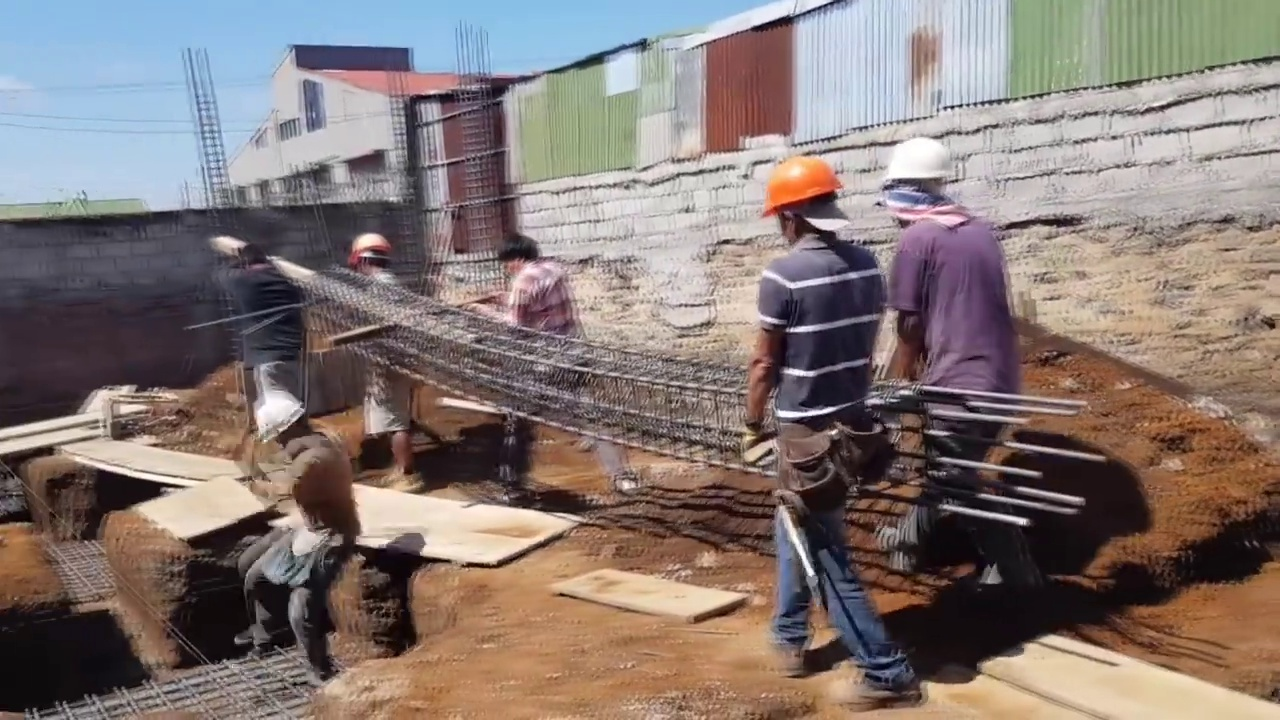helmet: (759, 157, 845, 219), (882, 135, 958, 183), (255, 393, 304, 443), (341, 235, 388, 267)
helmet-off: (497, 231, 537, 278), (238, 242, 269, 270)
helmet-on: (758, 155, 845, 251), (884, 134, 958, 229), (253, 391, 319, 451), (343, 231, 400, 278)
person: (864, 138, 1038, 595), (748, 141, 895, 681), (494, 231, 645, 507), (233, 387, 364, 697), (349, 232, 430, 498), (216, 239, 305, 444)
